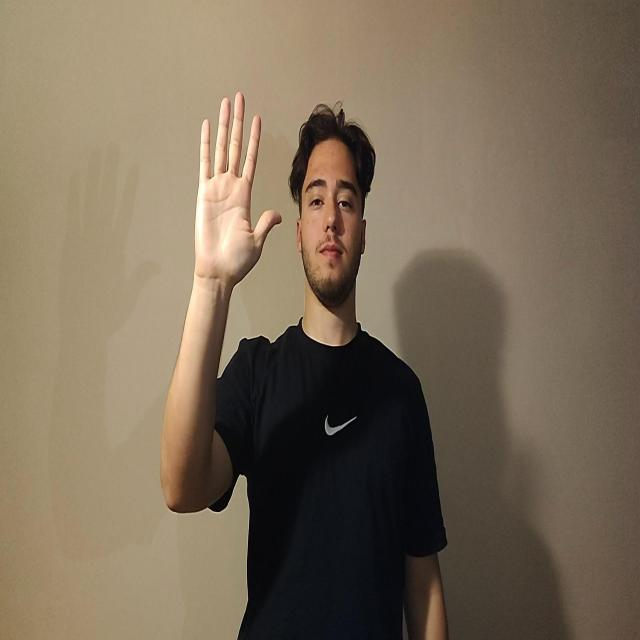hello: (193, 90, 282, 290)
